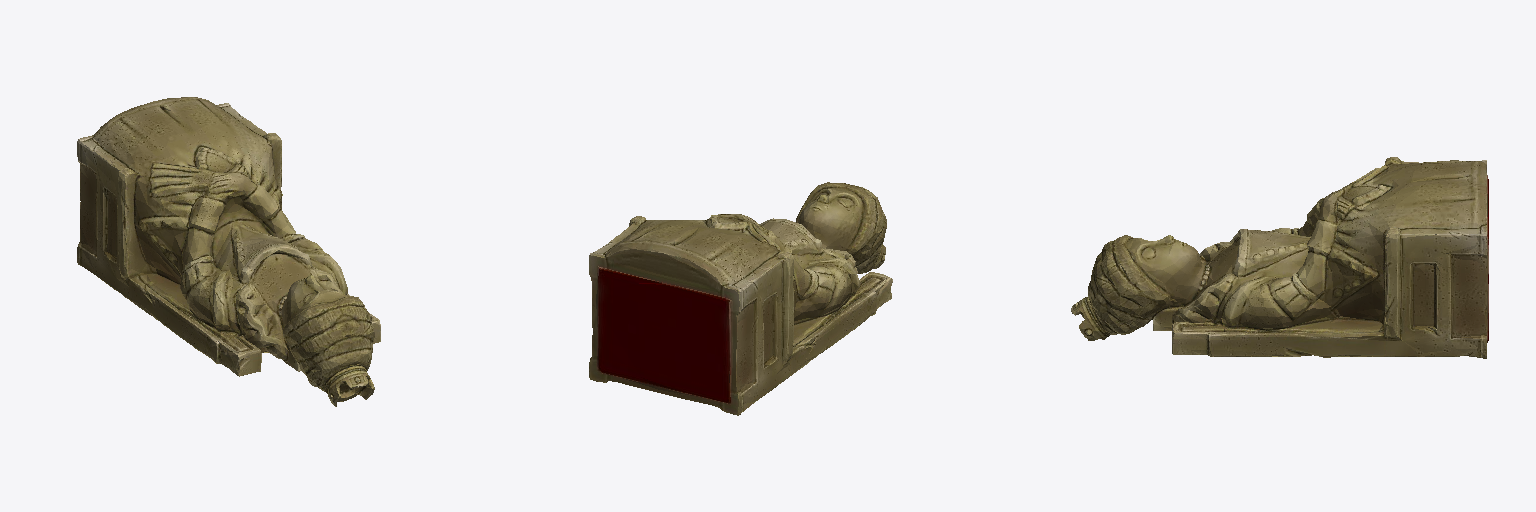
The picture shows the model from 3 angles: view 1: azimuth 30°, elevation 25°; view 2: azimuth 150°, elevation 25°; view 3: azimuth 270°, elevation 25°; orthographic projection.
Parts seen in each view (by area): view 1: mmGroup0; view 2: mmGroup0; view 3: mmGroup0.
Part boxes in pixels (left/top/right/bottom): mmGroup0: left=77, top=97, right=380, bottom=406; mmGroup0: left=589, top=182, right=892, bottom=415; mmGroup0: left=1071, top=157, right=1488, bottom=358.
Bounding box in the file's own units: 4.87 × 4.69 × 10.9.
Materials: 1 (1 with a texture image).